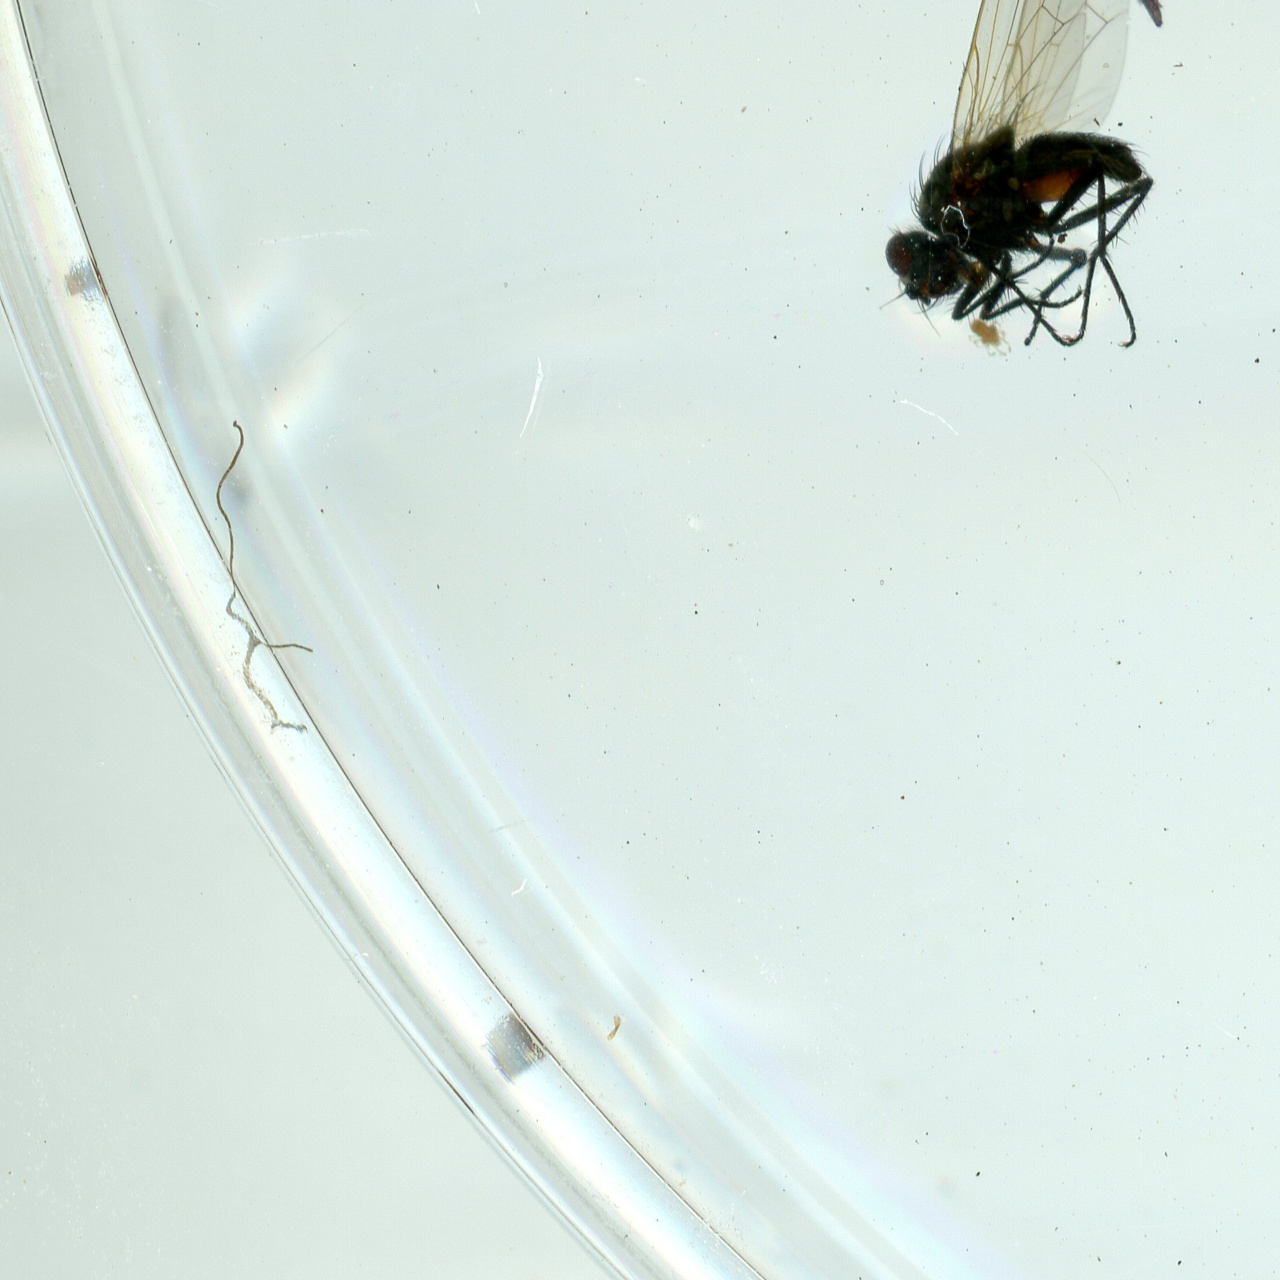arthropod: (869, 0, 1165, 355), (964, 313, 1016, 361), (1121, 0, 1176, 36)
